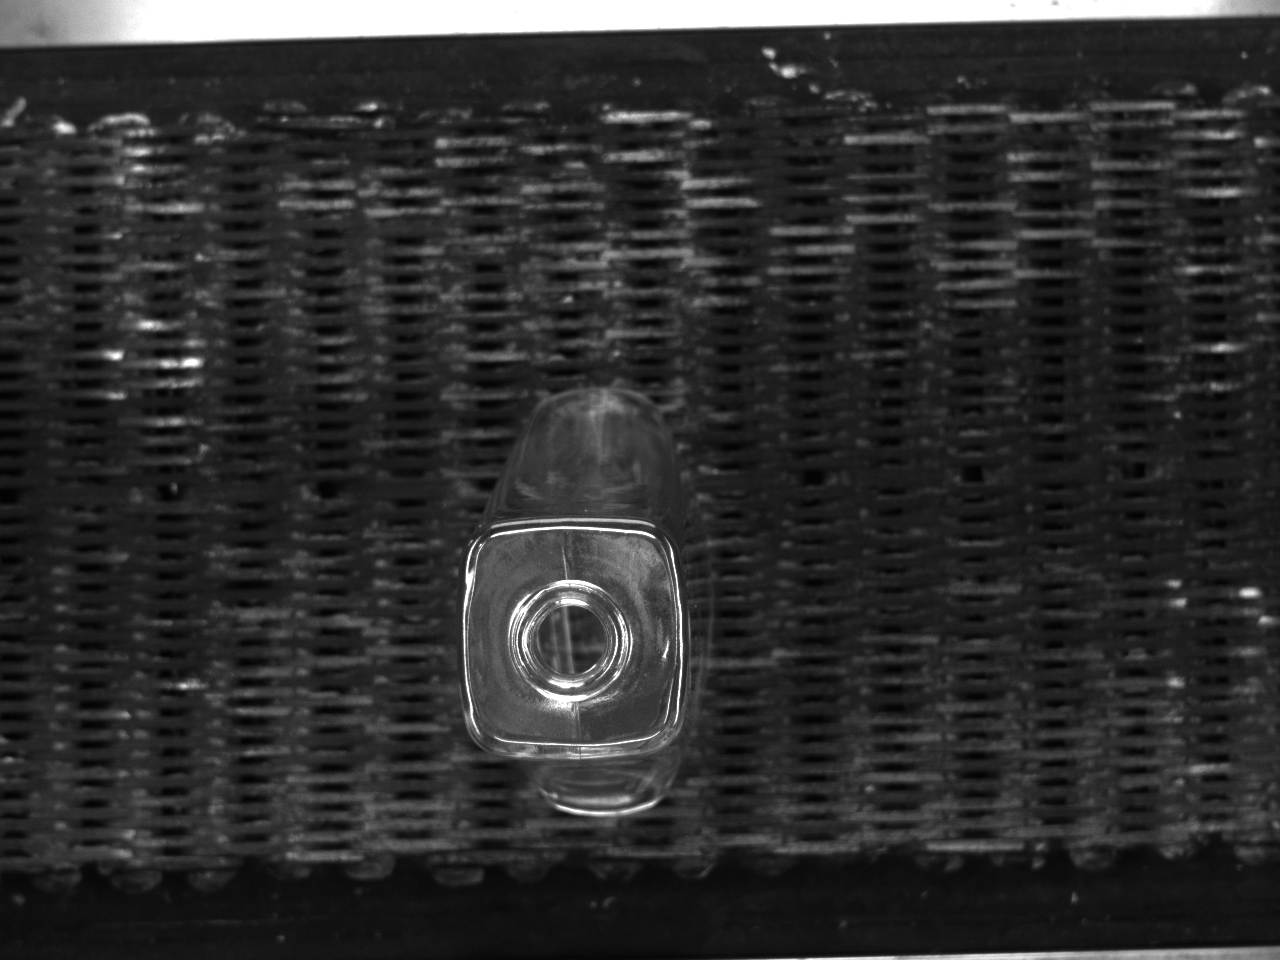bottleneck: (511, 578, 634, 702)
